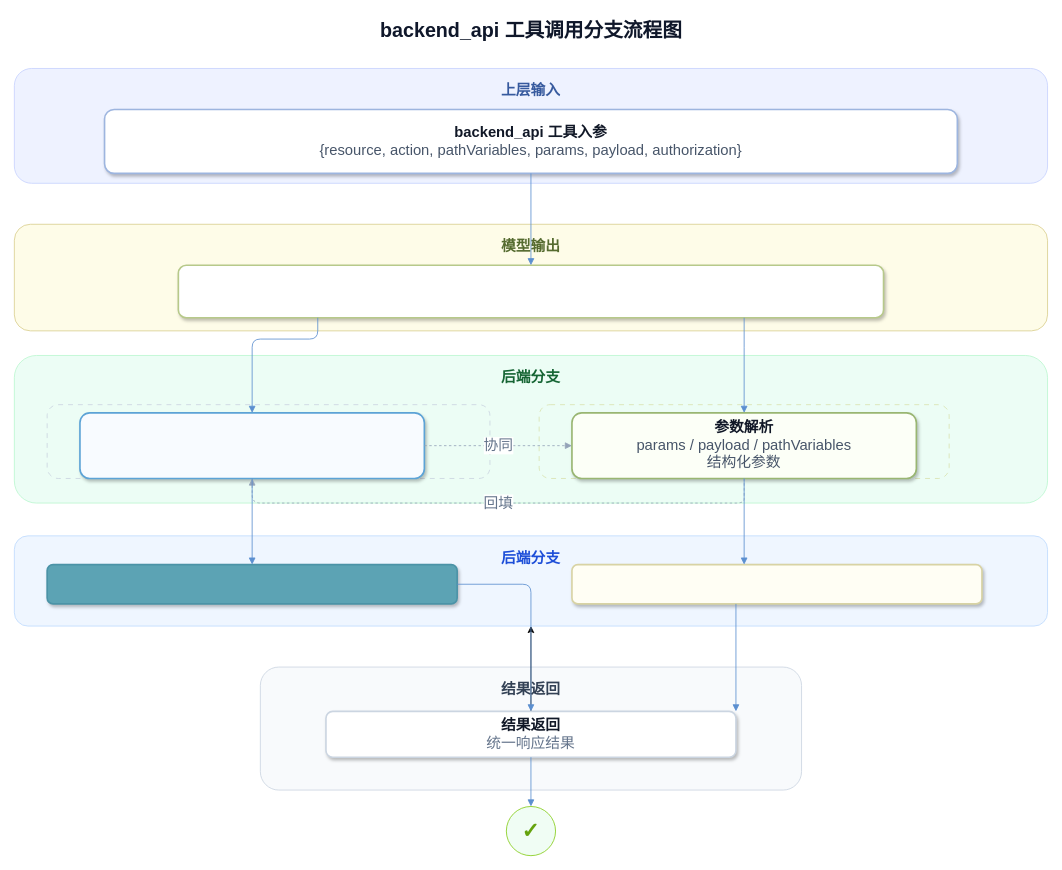
This 1062x870 diagram has some shape labels left out. The centre of each missing label's shape, as x and y in pixels:
text → 直接返回: the point at 777,585
tool_calls → ToolHandler: the point at 252,585
模型输出：text 或 tool_calls: the point at 531,292
路由解析 resource + action 路由匹配: the point at 252,446
